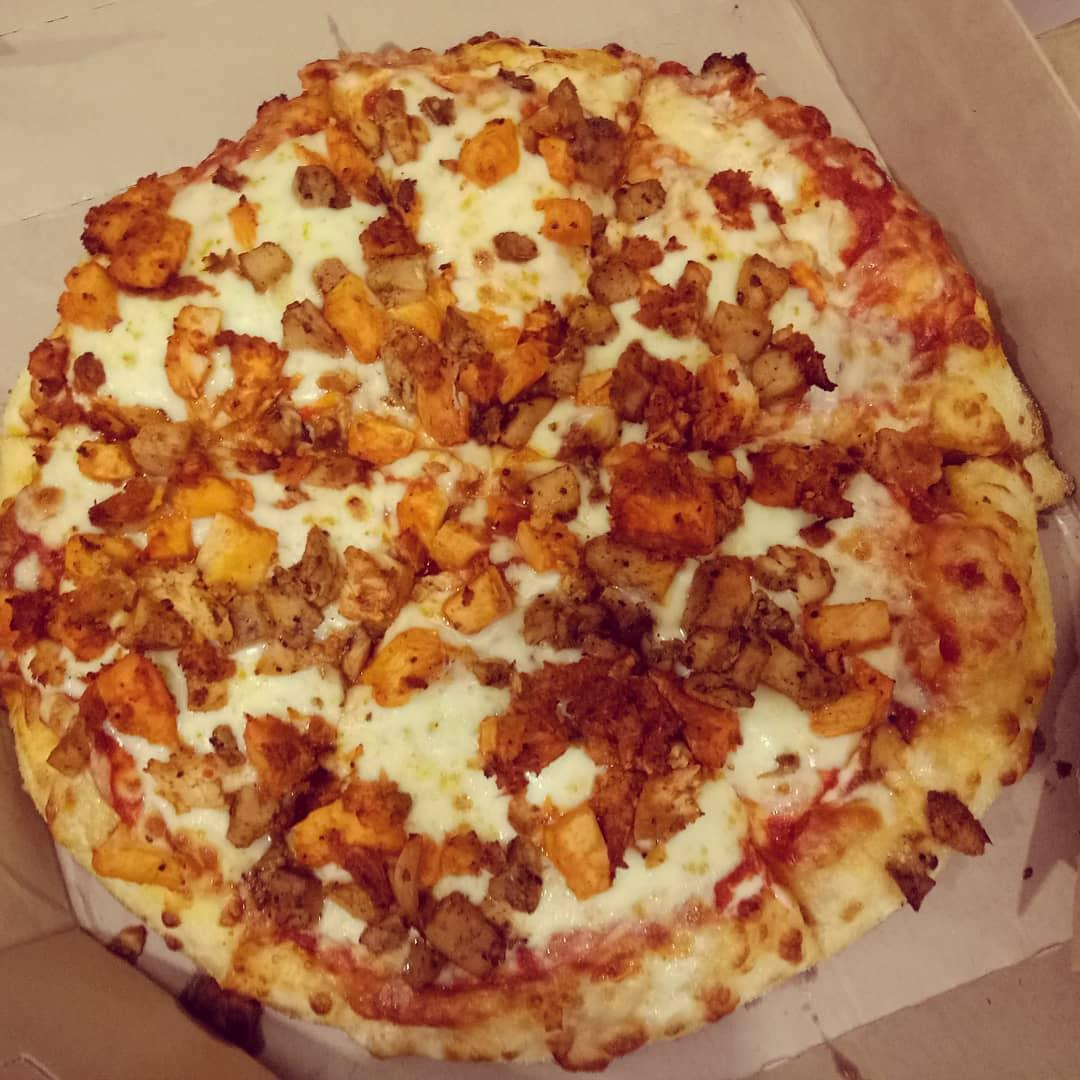Chicken: (602, 442, 726, 554), (284, 785, 423, 870), (90, 641, 186, 758), (751, 429, 877, 516), (139, 470, 255, 563), (527, 793, 619, 901), (359, 621, 457, 717), (75, 170, 174, 264), (289, 113, 386, 207), (801, 652, 900, 742), (395, 473, 486, 568), (191, 507, 281, 597), (492, 298, 567, 399), (318, 268, 391, 370), (107, 206, 194, 291), (693, 345, 762, 450), (436, 114, 522, 193), (159, 301, 224, 401), (408, 360, 477, 451), (217, 326, 286, 414), (52, 251, 125, 332), (800, 593, 894, 653), (419, 819, 492, 896), (443, 564, 513, 641), (641, 357, 697, 453), (341, 404, 418, 469), (62, 523, 138, 586), (508, 506, 578, 569), (73, 430, 144, 486), (383, 289, 445, 351), (528, 194, 595, 251), (304, 371, 359, 427), (222, 191, 266, 255), (534, 129, 578, 191)
Pizza: (0, 28, 1080, 1080)
